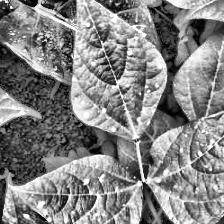Bean Rust: (64, 10, 166, 138), (145, 96, 224, 224), (22, 163, 138, 224), (0, 58, 39, 166), (181, 0, 224, 27)
